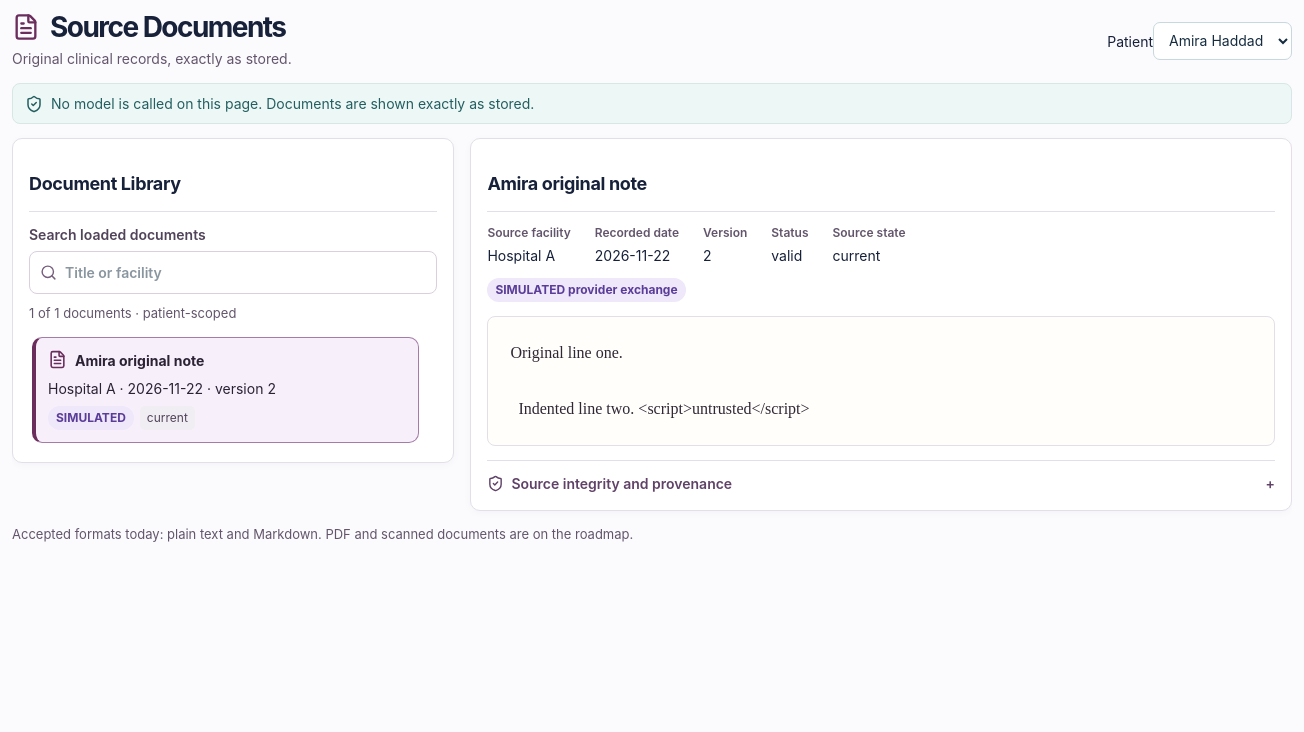
Test: patient change clears local search and uses the existing patient-scoped query
Expected: the button "Amira original note" is shown, 32,337 -> 419,443
Step 1. Type "Hospital A" into the search field → {"x": 246, "y": 273}, box 65,252 -> 426,293
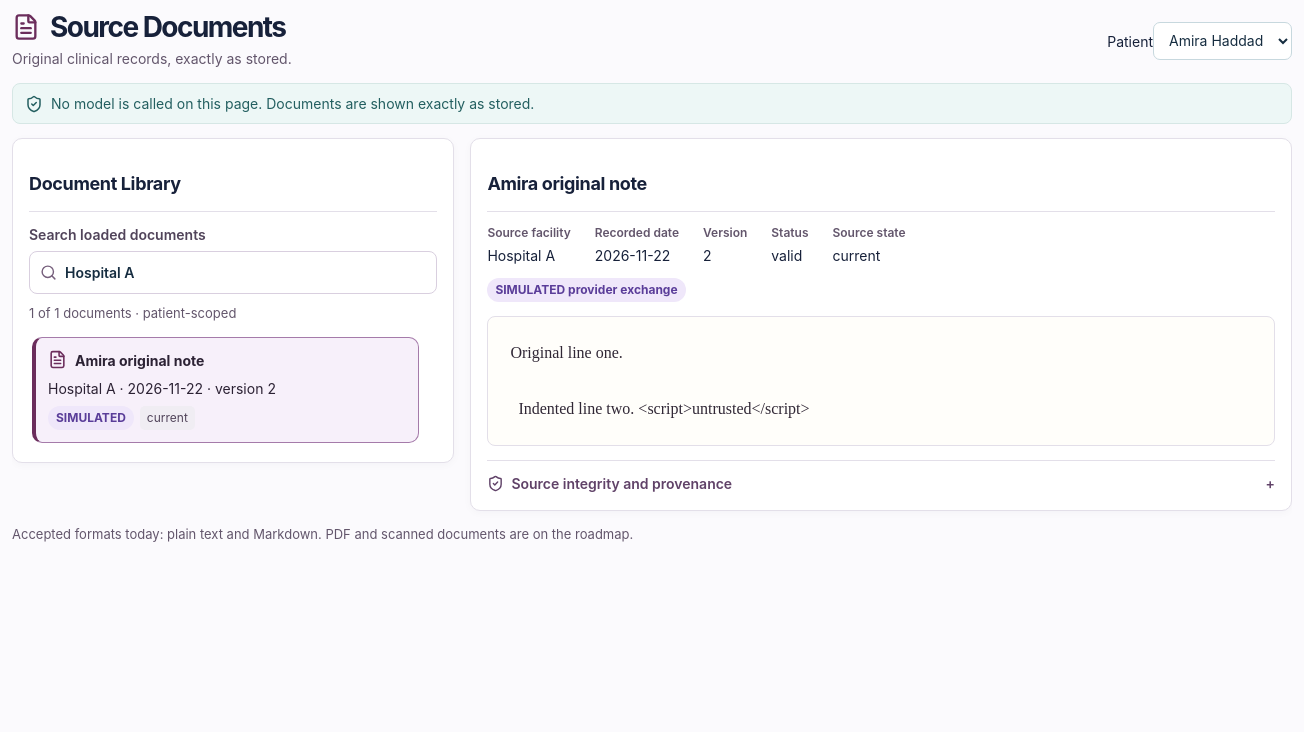
Step 2. Select "Lina Karim" in the dropdown named "Document patient" → {"x": 1222, "y": 41}, box 1153,22 -> 1292,60
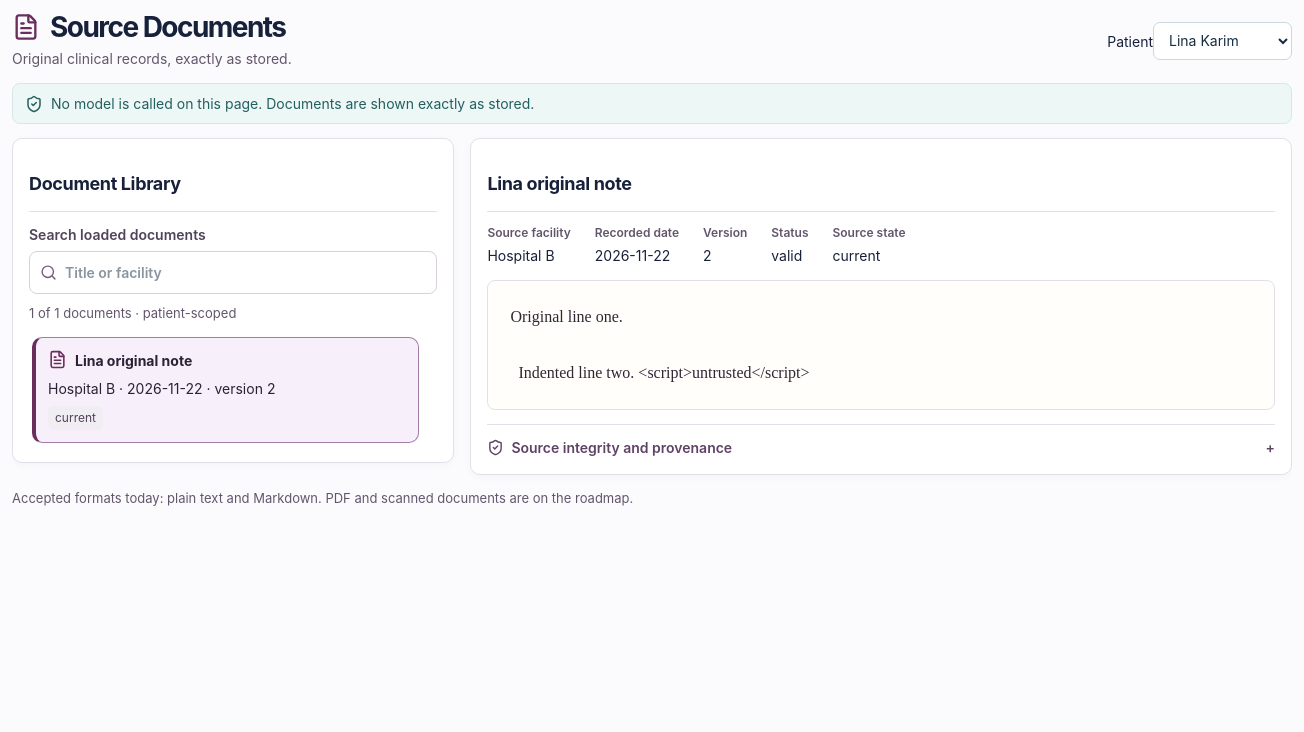
Now the button "Lina original note" is shown, box 32,337 -> 419,443
Now the search field is empty, box 65,252 -> 426,293
Now the button "Amira original note" is gone
